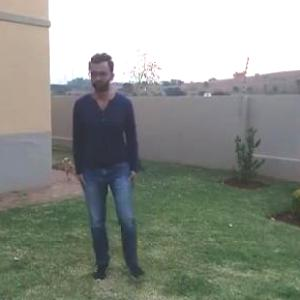follow: (70, 45, 154, 295)
